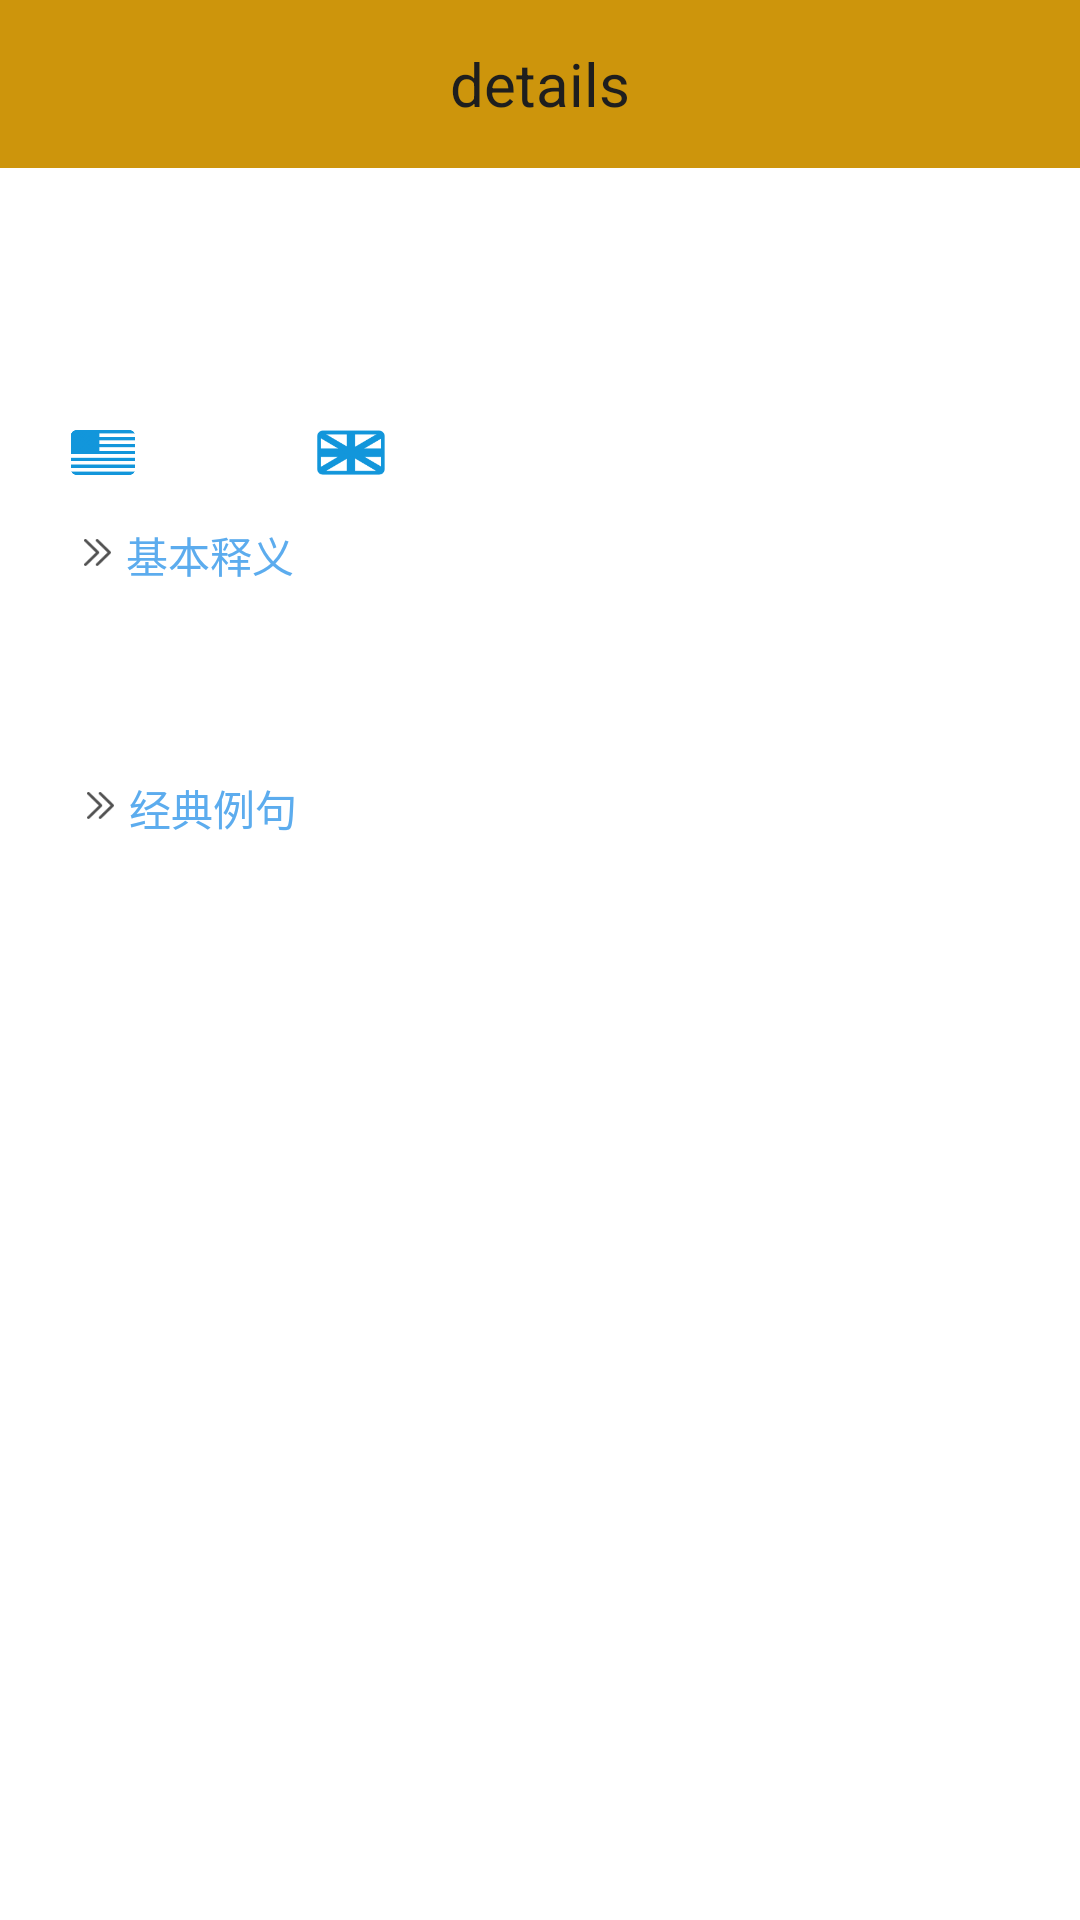

Icons on this 1080×1920 Android screen, each with the point to tap as point (x, y):
arrow: point (97, 552), point (100, 805)
